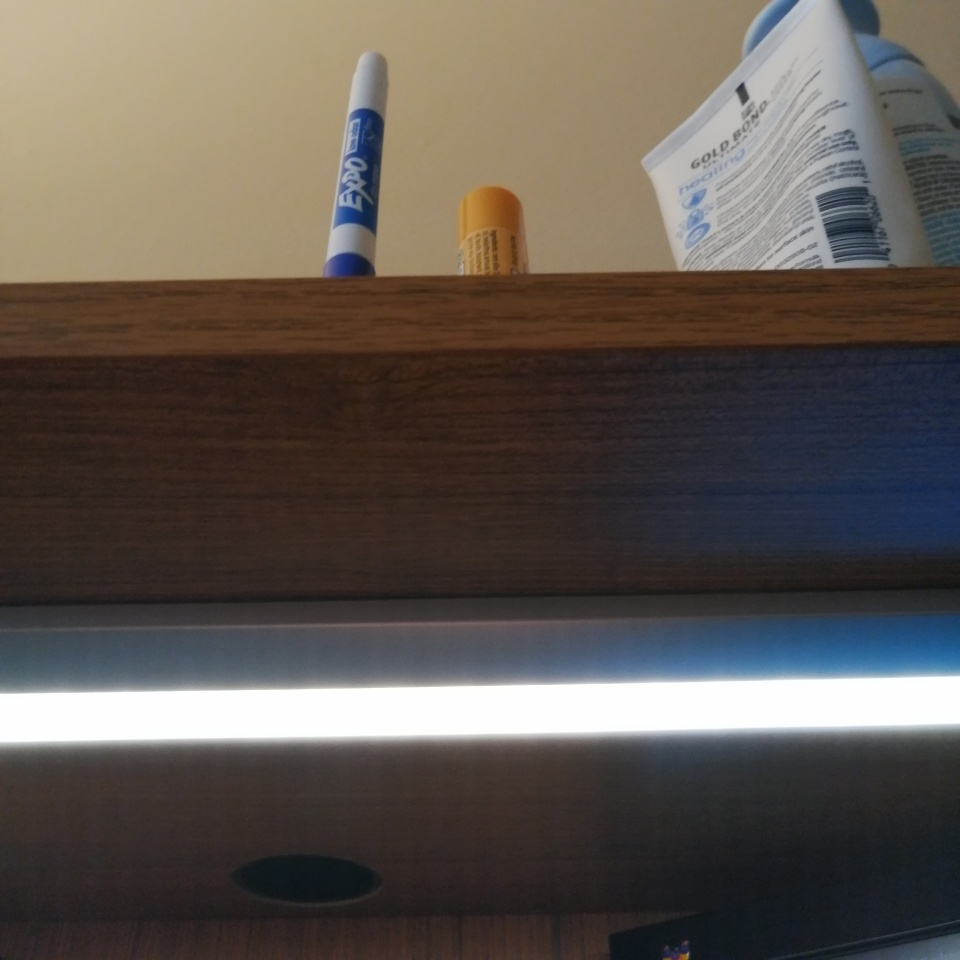chapstick: (457, 185, 531, 276)
